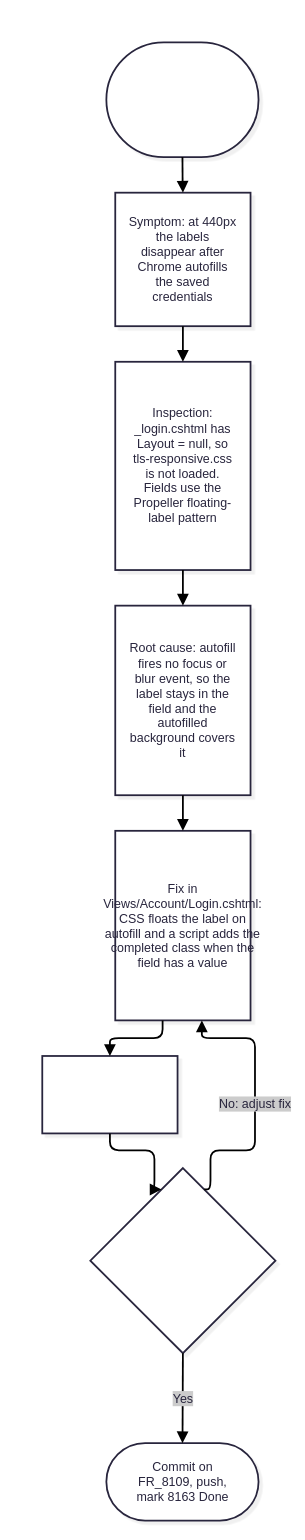
The diagram is 305 pixels wide and 1540 high, and some of its shapes have lost their labels. Each missing label, with the centre of its shape:
"All checks pass?" goes at point (184, 1262).
"Bug 8163: Login page Username and Password labels missing on phone" goes at point (184, 101).
"Test at 440px, empty fields and desktop width" goes at point (111, 1096).
